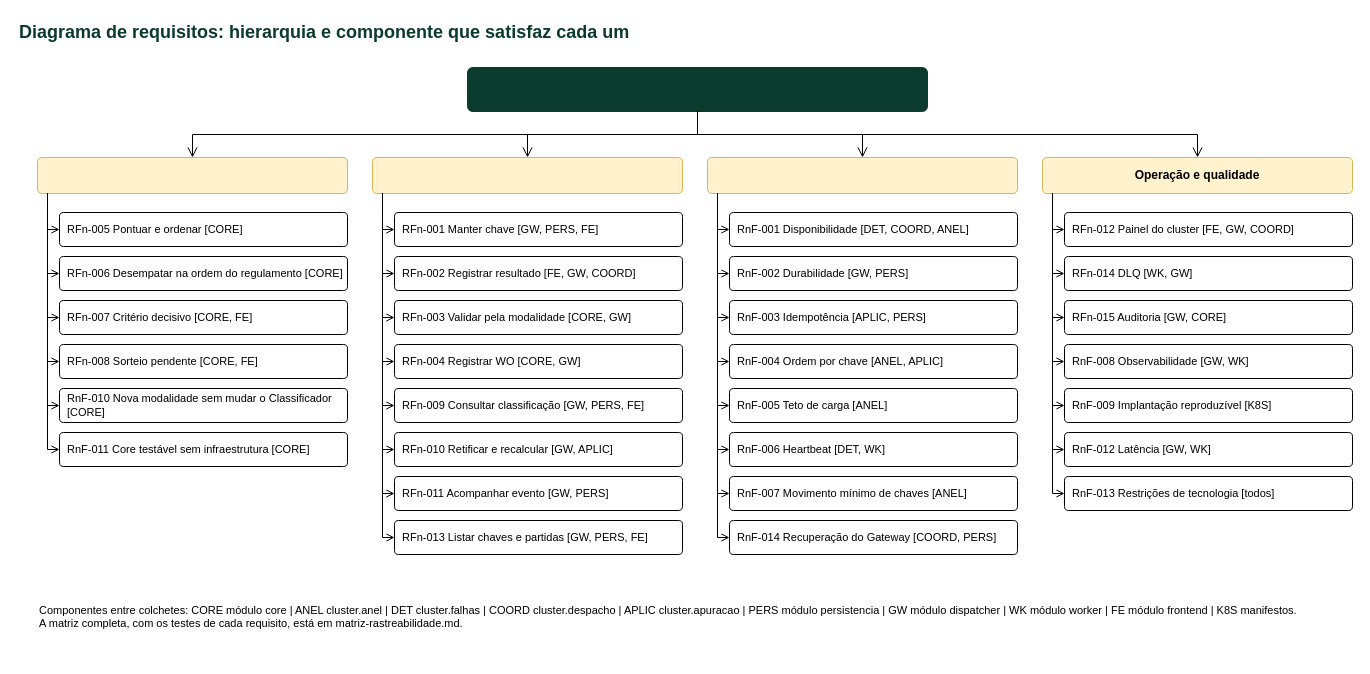
This 1370x674 diagram has some shape labels left out. The centre of each missing label's shape, as x and y in pixels:
"Apurar a chave certo, mesmo sob carga e sob falha" belongs at (697,89).
"Apuração (POO)" belongs at (192,175).
"Distribuição (SD)" belongs at (862,175).
"Registro e consulta" belongs at (527,175).
